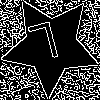L: (26, 21, 64, 72)
